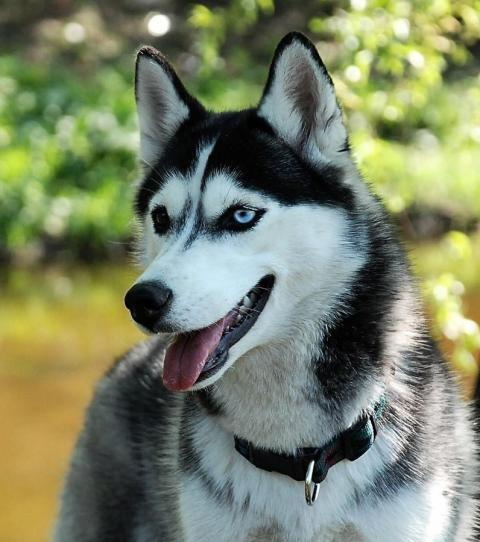husky: (102, 21, 444, 448)
